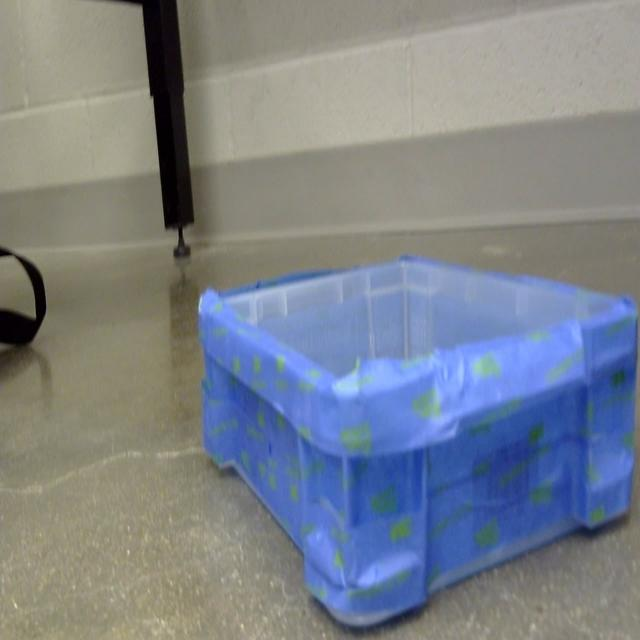bucket: (197, 255, 638, 634)
